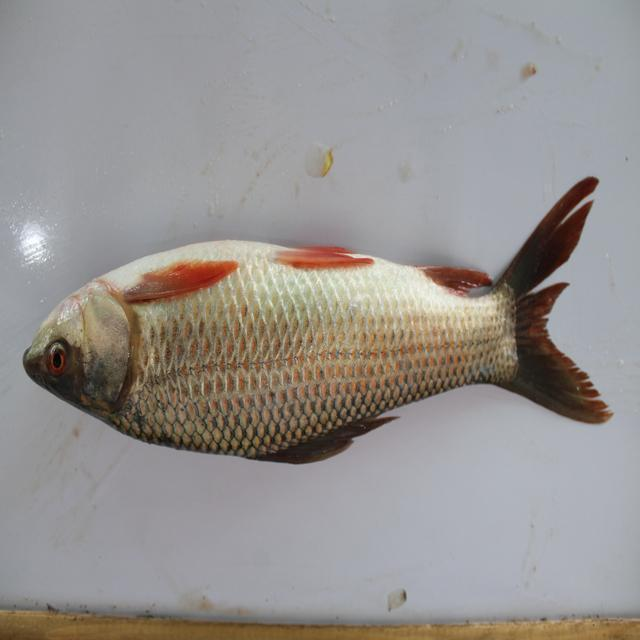Rohu: (16, 183, 630, 478)
